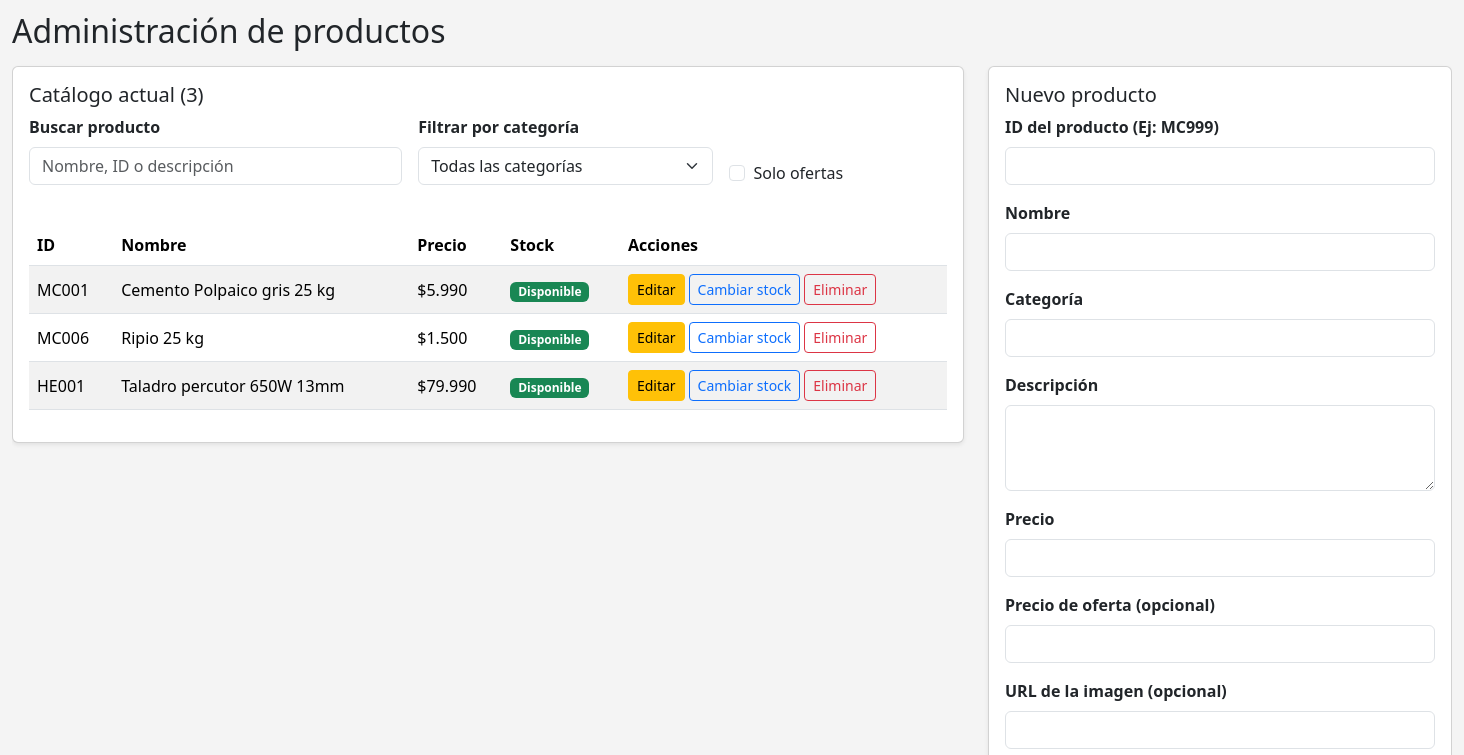
it: AdminProductos › UPDATE cambiar stock
The width and height of the screenshot is (1464, 755).
Click the button with aria-label "Cambiar stock de Ripio 25 kg" at point(744, 338), box [689,322,800,353]
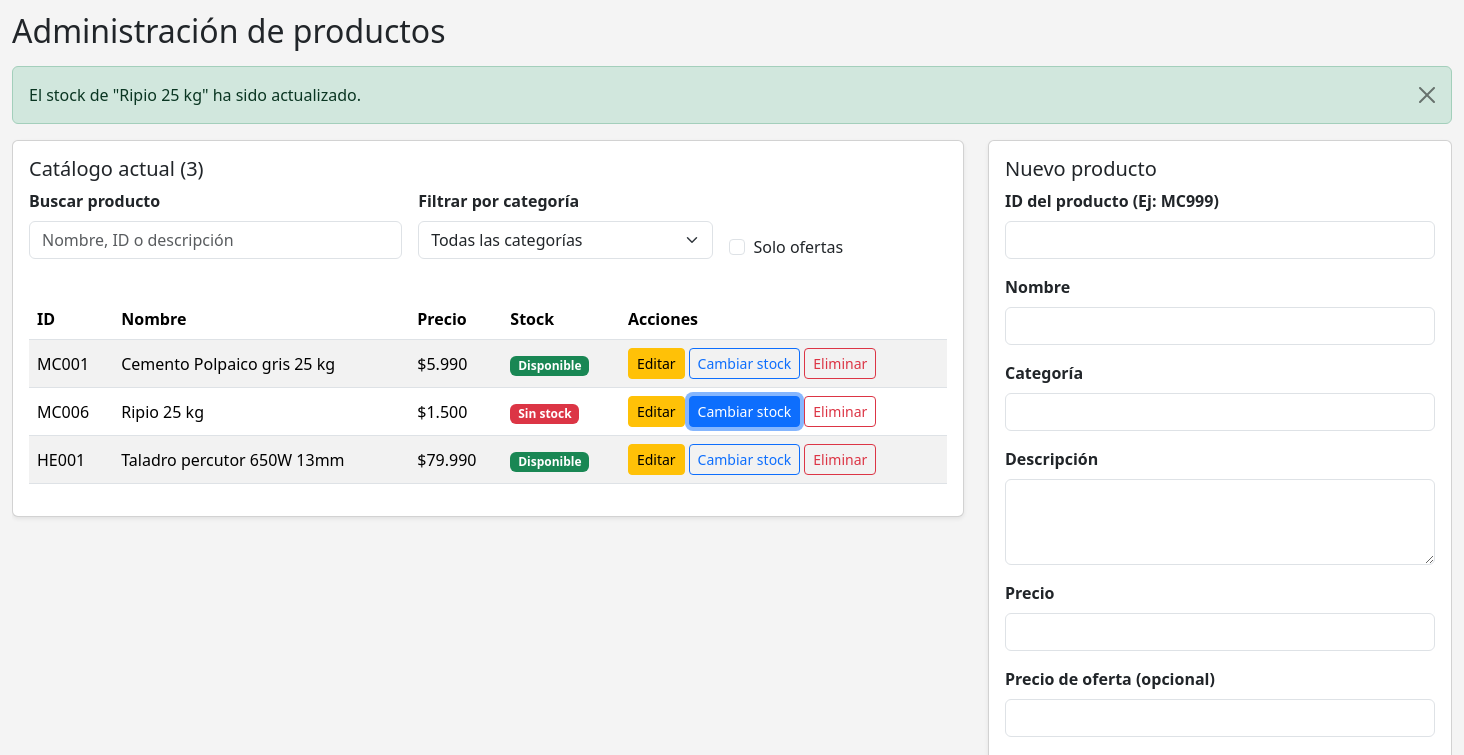
Check: the text "Sin stock" is shown, box [510,404,579,424]
